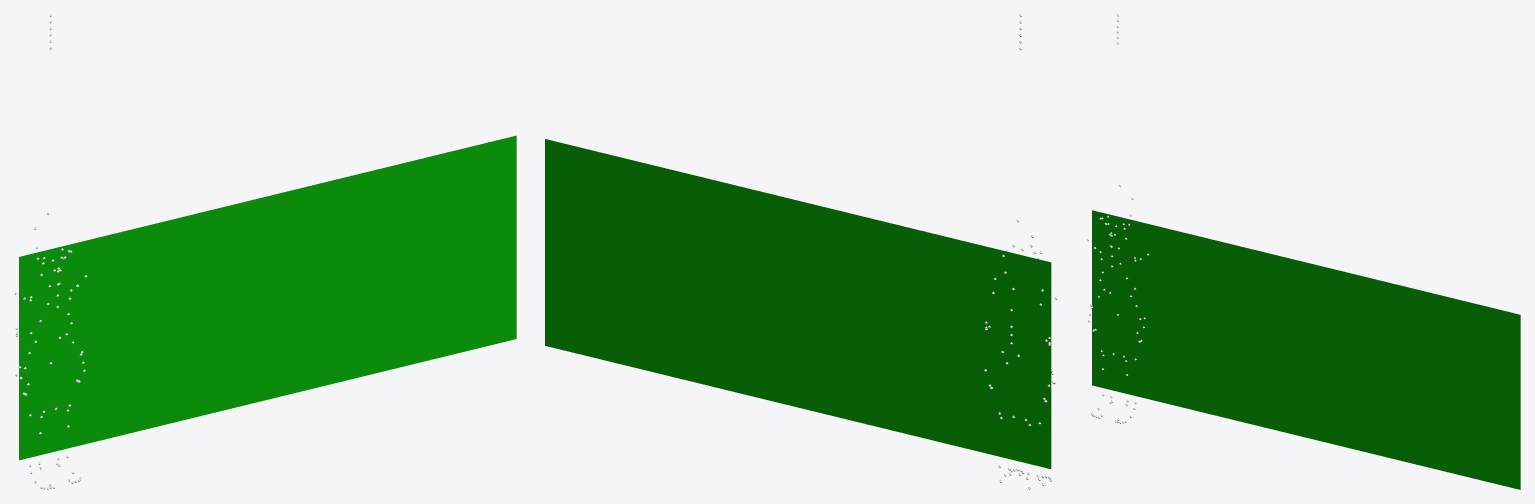
File: Jin20fOneAnimationExport.gltf
3 views of the same model, side by side, from view 1: azimuth 30°, elevation 25°; view 2: azimuth 150°, elevation 25°; view 3: azimuth 330°, elevation 25° (orthographic). The views are drawn at different scales.
Visible parts, largest first — view 1: IndexedFaceSet.Backing.0; view 2: IndexedFaceSet.Backing.0; view 3: IndexedFaceSet.Backing.0.
Part boxes in pixels (x1,y1,x2,y2): IndexedFaceSet.Backing.0: [19, 135, 516, 460]; IndexedFaceSet.Backing.0: [545, 139, 1051, 468]; IndexedFaceSet.Backing.0: [1092, 210, 1520, 489].
Size of what is drawn, in the model's own units: 3.23 by 2.85 by 0.34.
